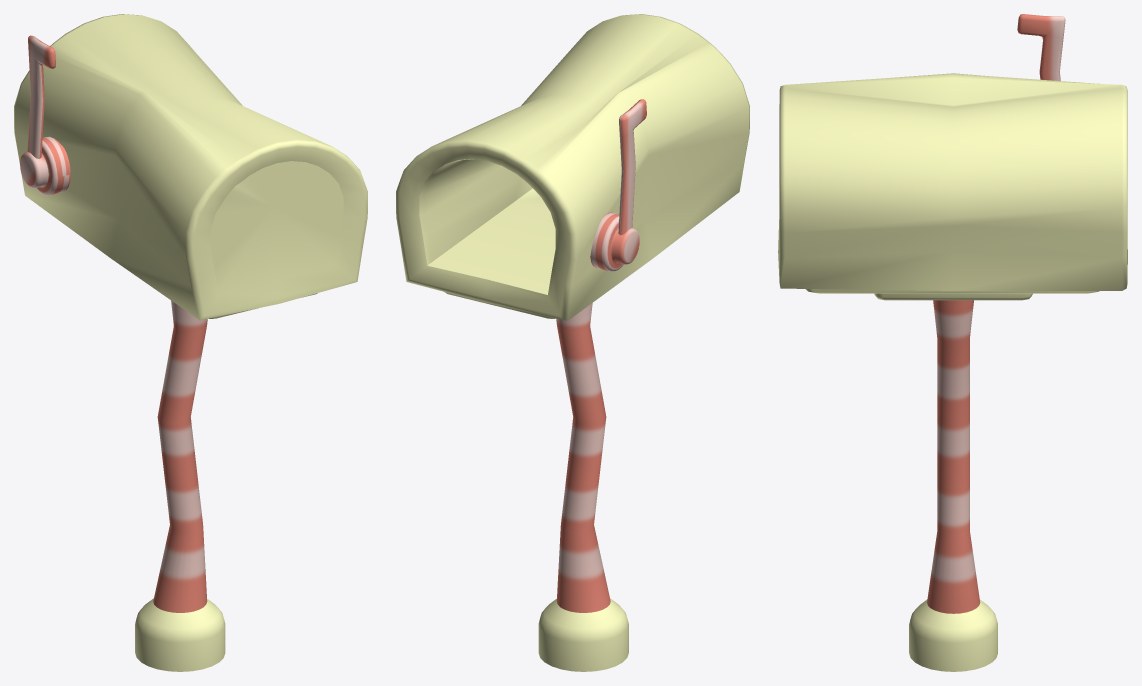
Rendered from MailboxA_yellow.fbx.
3 views of the same model, side by side, from view 1: azimuth 30°, elevation 25°; view 2: azimuth 150°, elevation 25°; view 3: azimuth 270°, elevation 25° (orthographic).
Visible parts, largest first — view 1: MailboxA_box.002, MailboxA_stand.002, MailboxA_thingie.002; view 2: MailboxA_box.002, MailboxA_stand.002, MailboxA_thingie.002; view 3: MailboxA_box.002, MailboxA_stand.002, MailboxA_thingie.002.
Boxes of the visible parts, box(x1,y1,x2,y2) form: MailboxA_box.002: box(14, 14, 367, 320); MailboxA_stand.002: box(135, 300, 225, 671); MailboxA_thingie.002: box(20, 35, 70, 195); MailboxA_box.002: box(396, 14, 749, 320); MailboxA_stand.002: box(538, 303, 628, 671); MailboxA_thingie.002: box(590, 99, 646, 271); MailboxA_box.002: box(778, 73, 1127, 300); MailboxA_stand.002: box(909, 300, 997, 671); MailboxA_thingie.002: box(1017, 14, 1065, 80).
Size of the model in its own units: 107 by 307 by 164.
